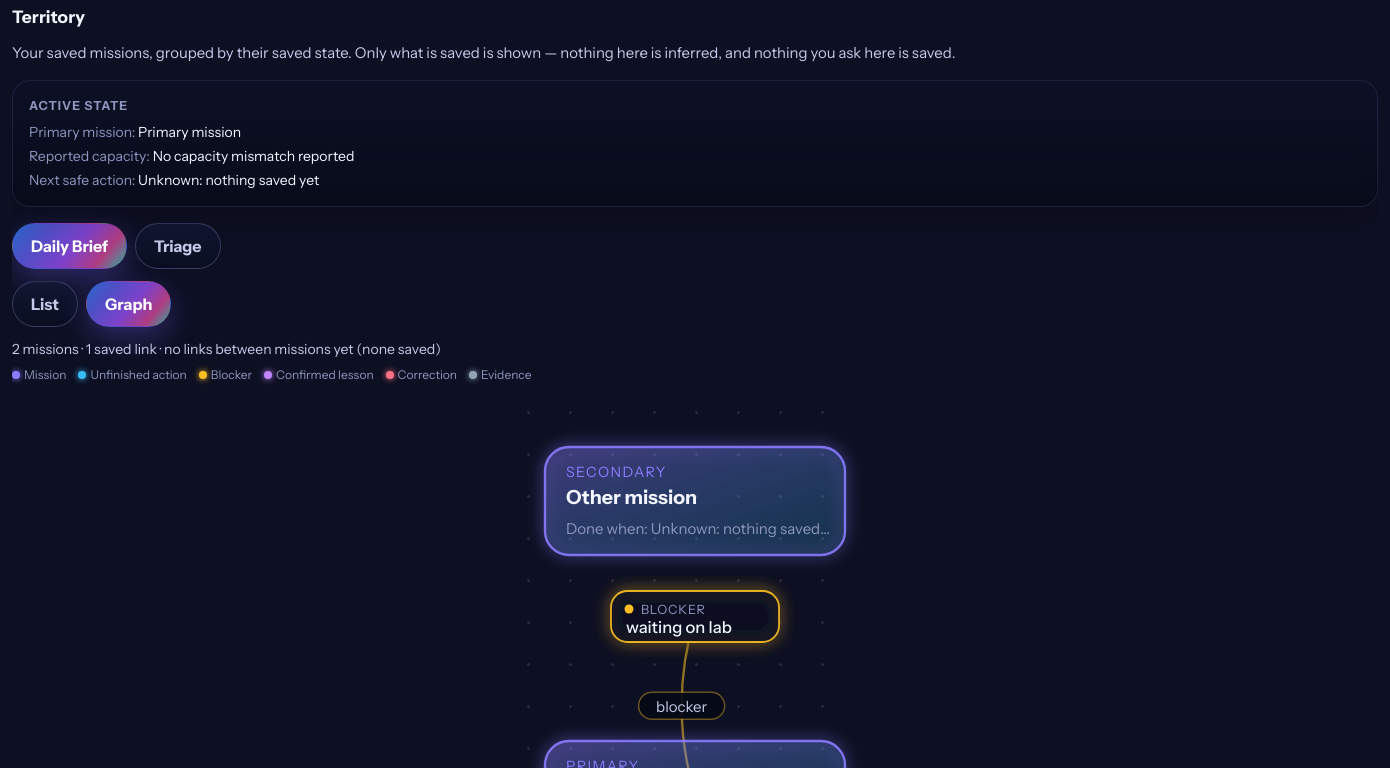
Test: TerritoryTab › opens a detail panel whose buttons send only that mission
Click the button "List".
click(45, 304)  # box x1=12 y1=281 x2=78 y2=327
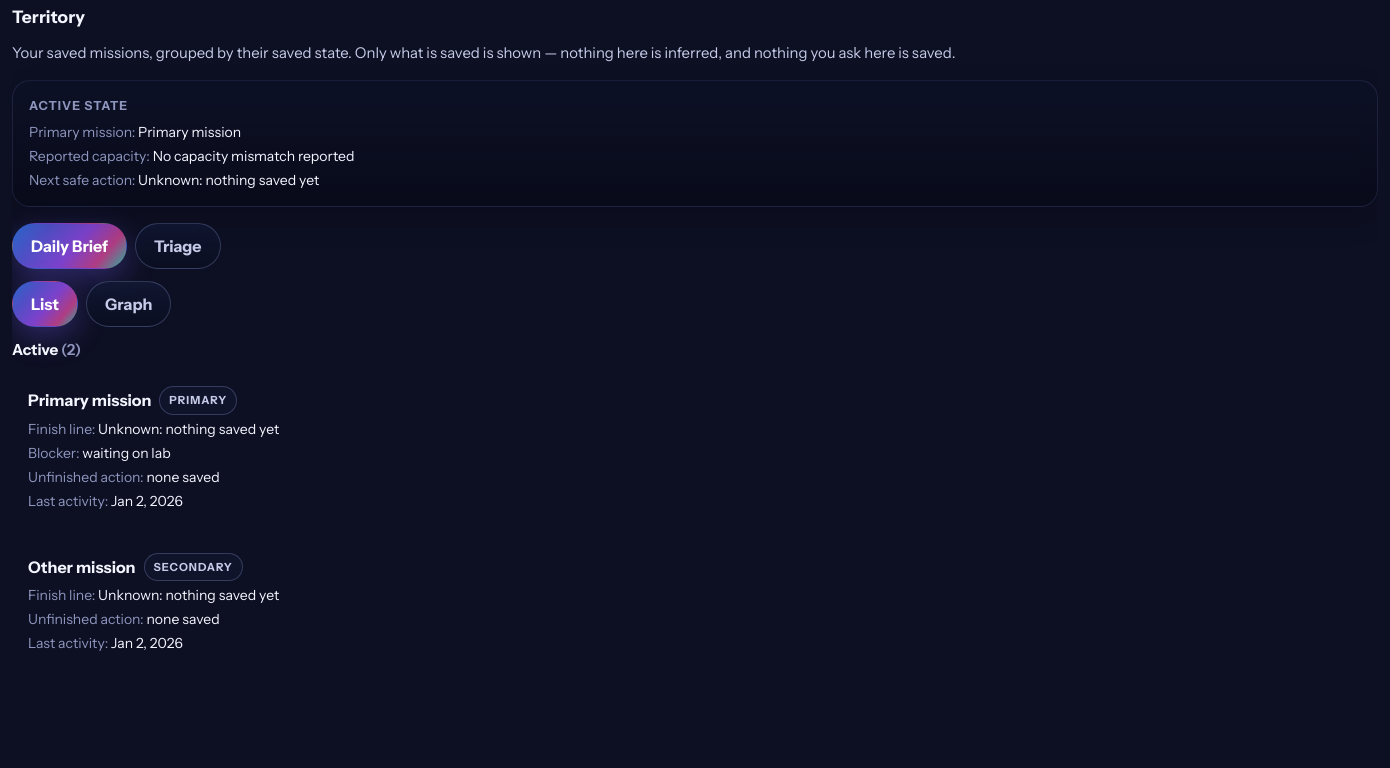
Click the button with aria-label "Open Primary mission".
click(695, 448)  # box x1=12 y1=370 x2=1378 y2=527
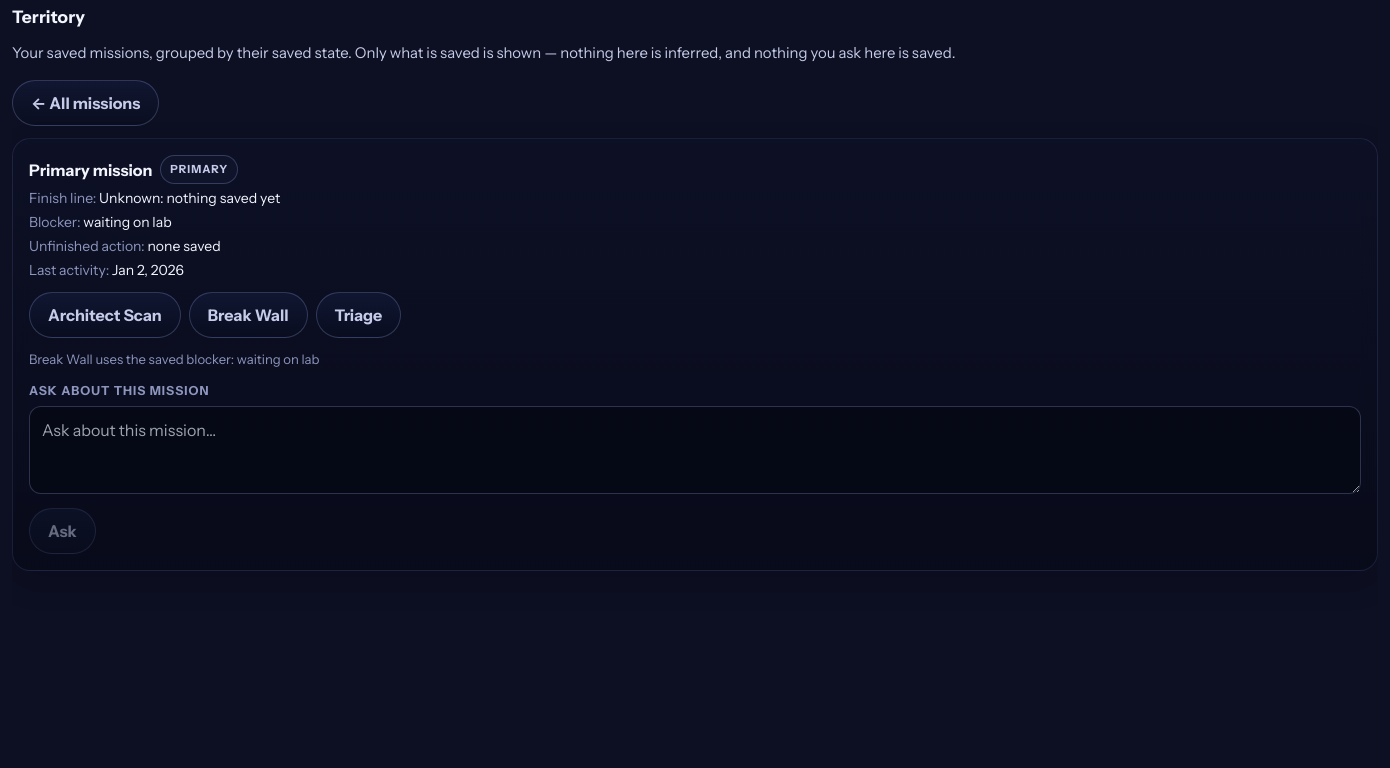
Now the button "Break Wall" is enabled, box x1=189 y1=292 x2=308 y2=338
Click the button "Triage".
click(358, 315)  # box x1=316 y1=292 x2=401 y2=338
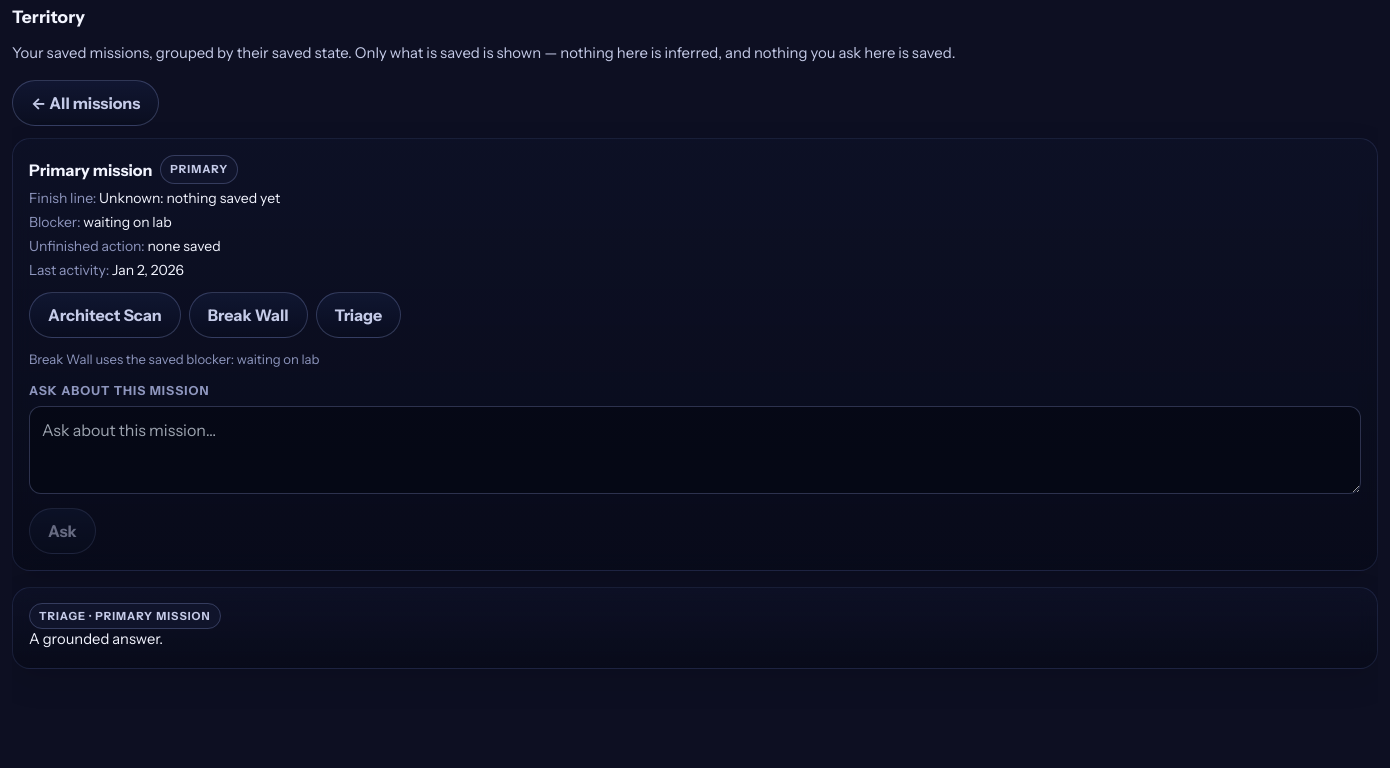
Now the text "A grounded answer." is shown, box x1=29 y1=630 x2=163 y2=648
Now the text "Triage · Primary mission" is shown, box x1=29 y1=603 x2=220 y2=629
Click the button "← All missions".
click(86, 103)  # box x1=12 y1=80 x2=159 y2=126
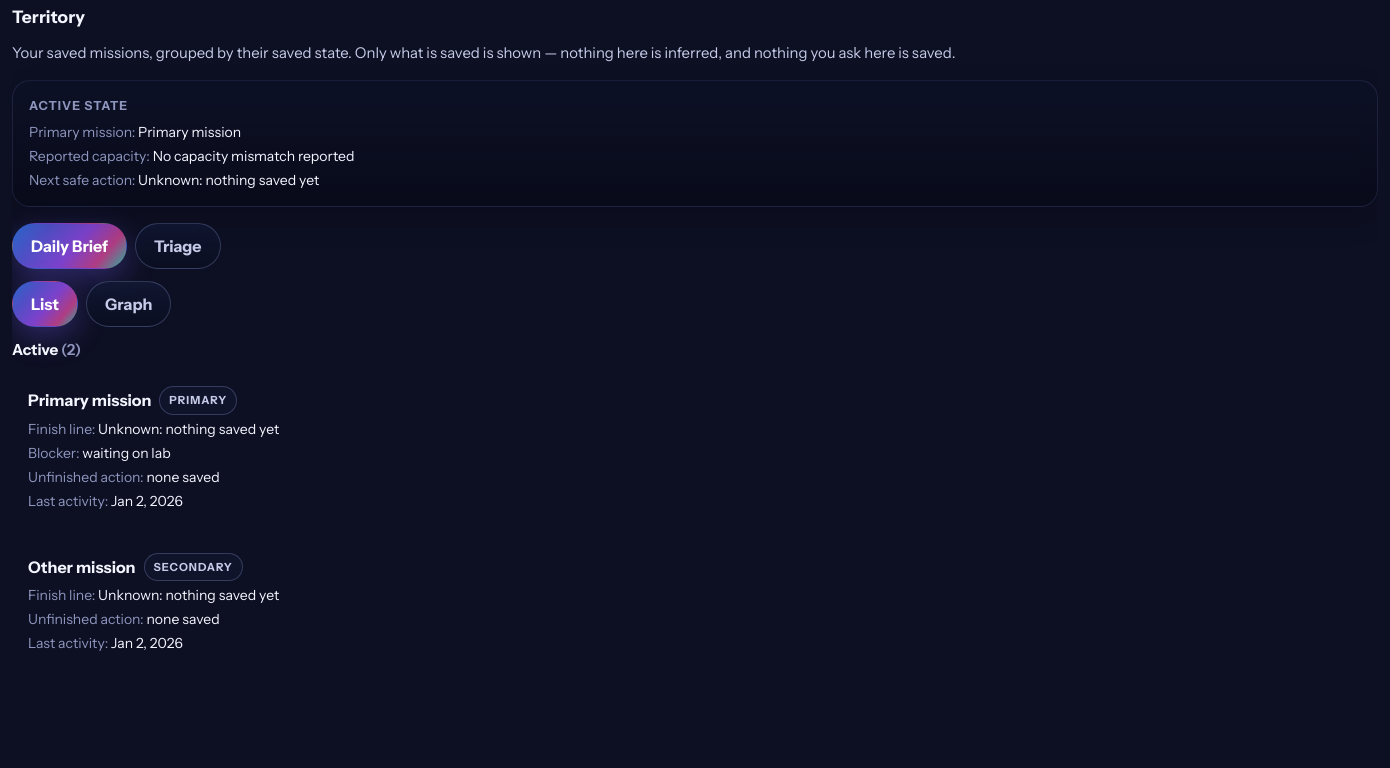
Now the text "A grounded answer." is gone
